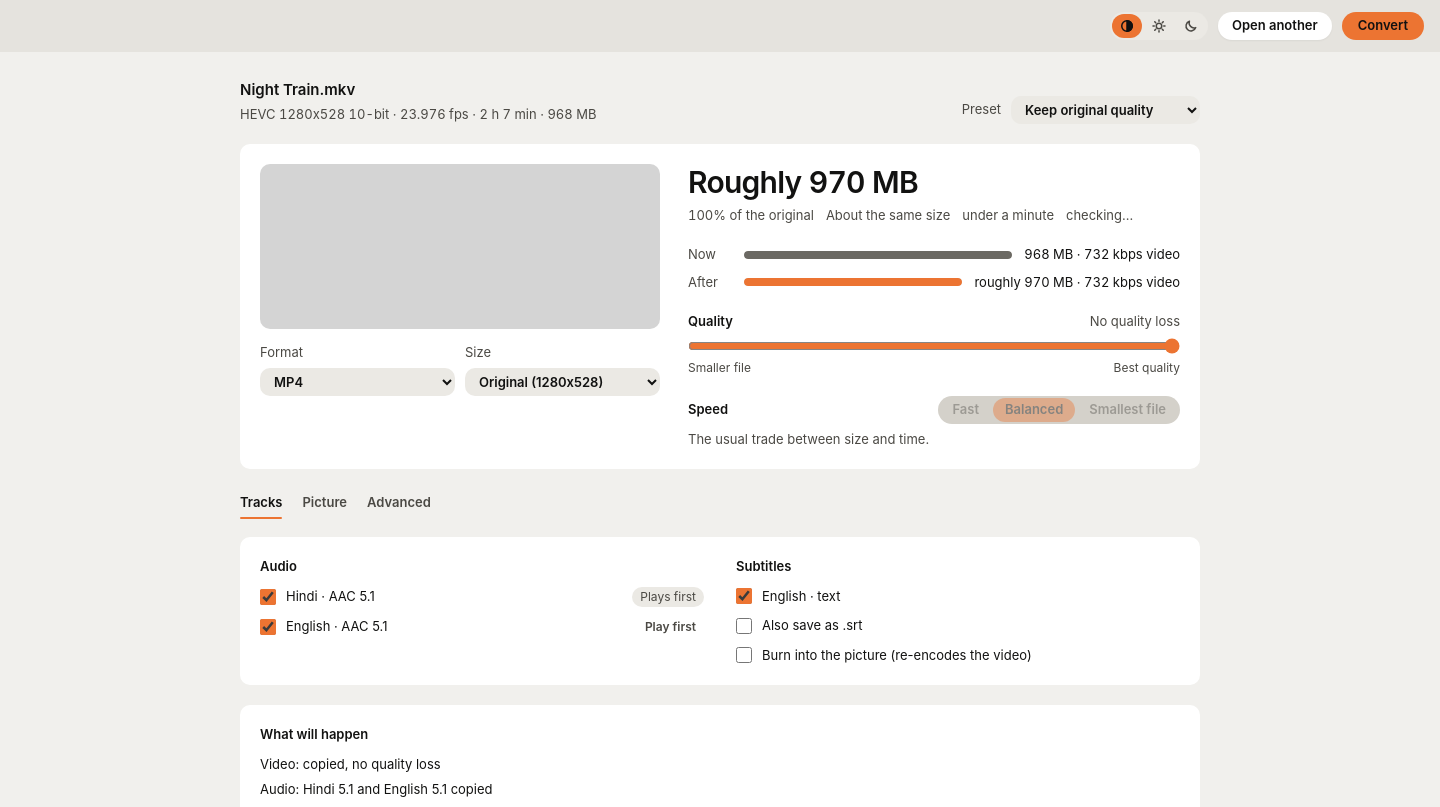
Scenario: the settings tabs › unticks an audio track, and plays another first with one click
Click the button with aria-label "Play English first": (670, 627) [637,617,704,637]
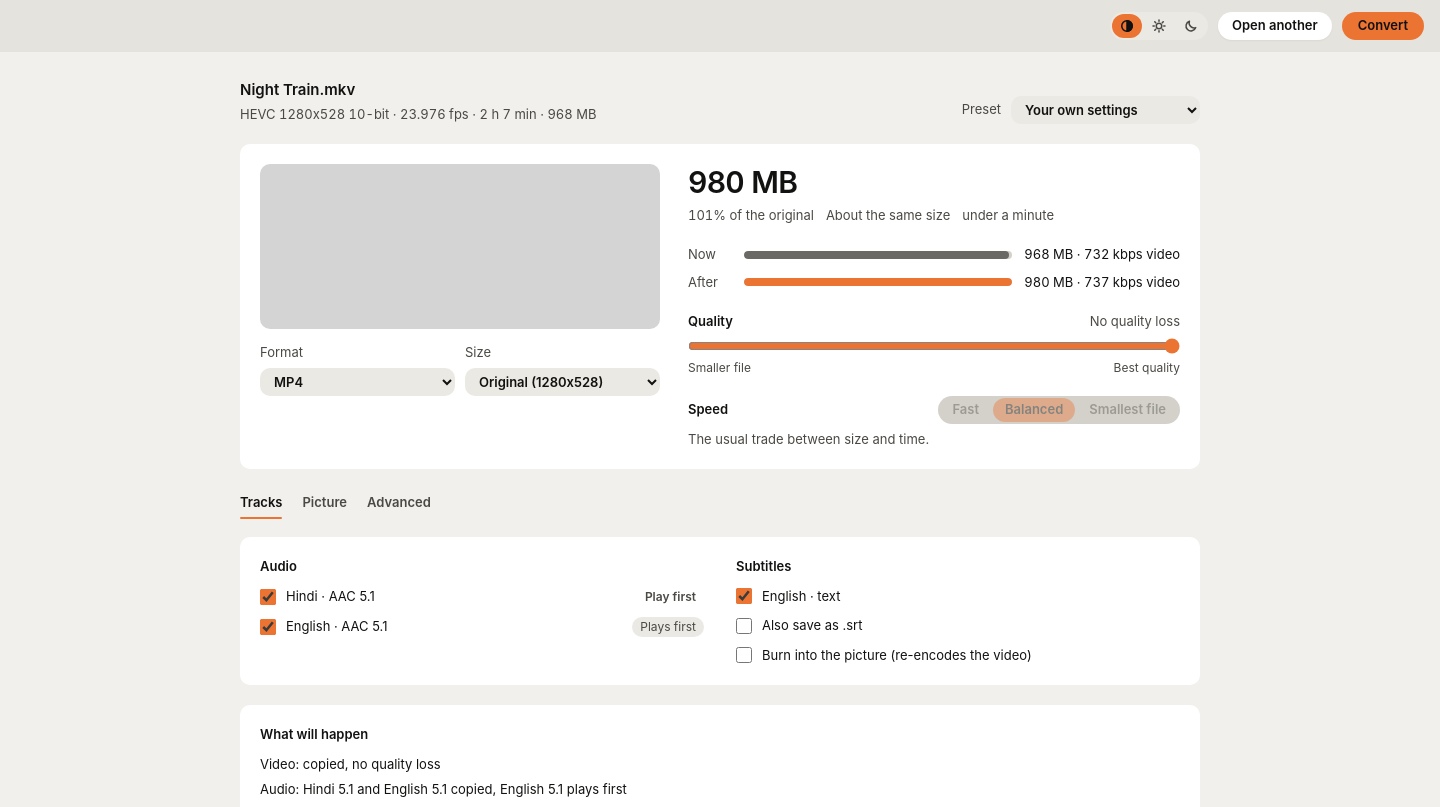
Click the checkbox labelled "Hindi · AAC 5.1": (268, 597) [260,589,276,605]
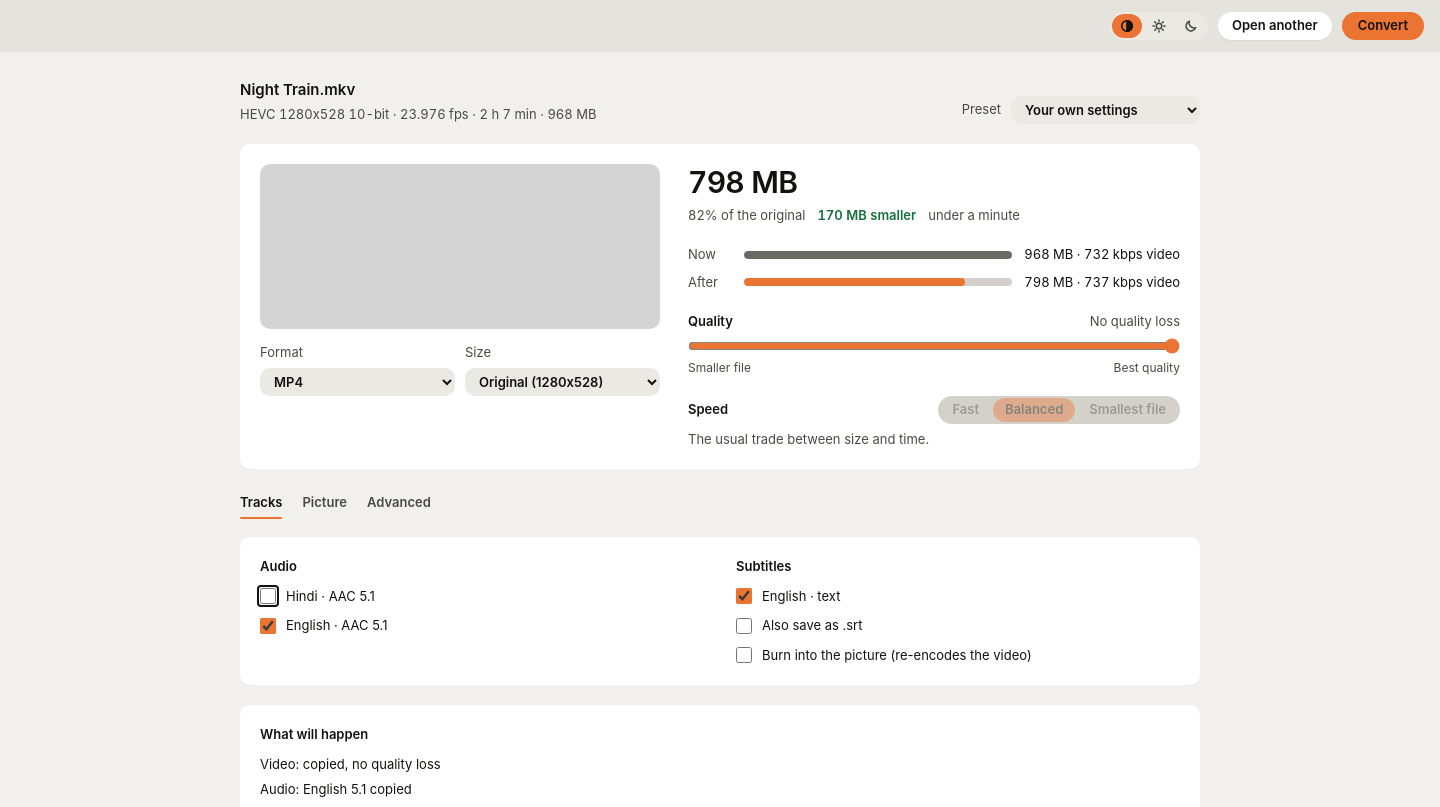
expect the list item "Audio: English 5.1 copied" is shown: met, box [260,781,412,797]
expect the text "Plays first" is gone: met
